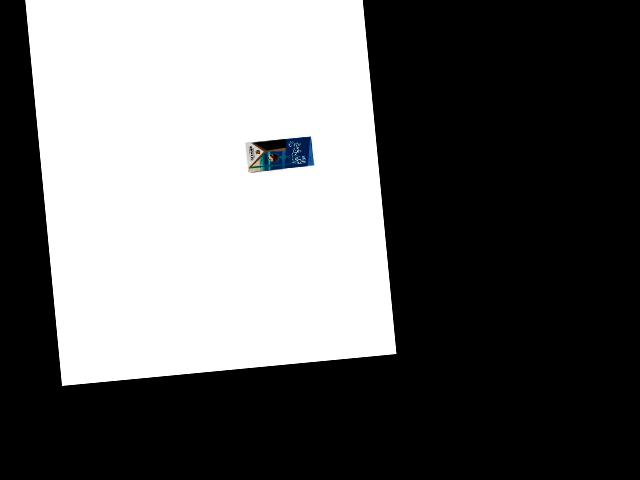chocolate: (243, 134, 315, 173)
